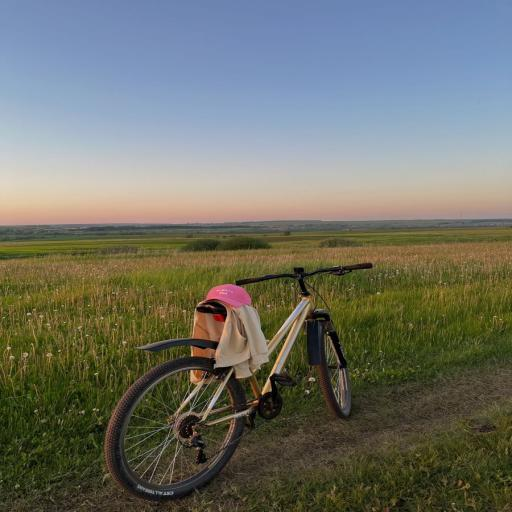bag: (105, 264, 372, 500)
